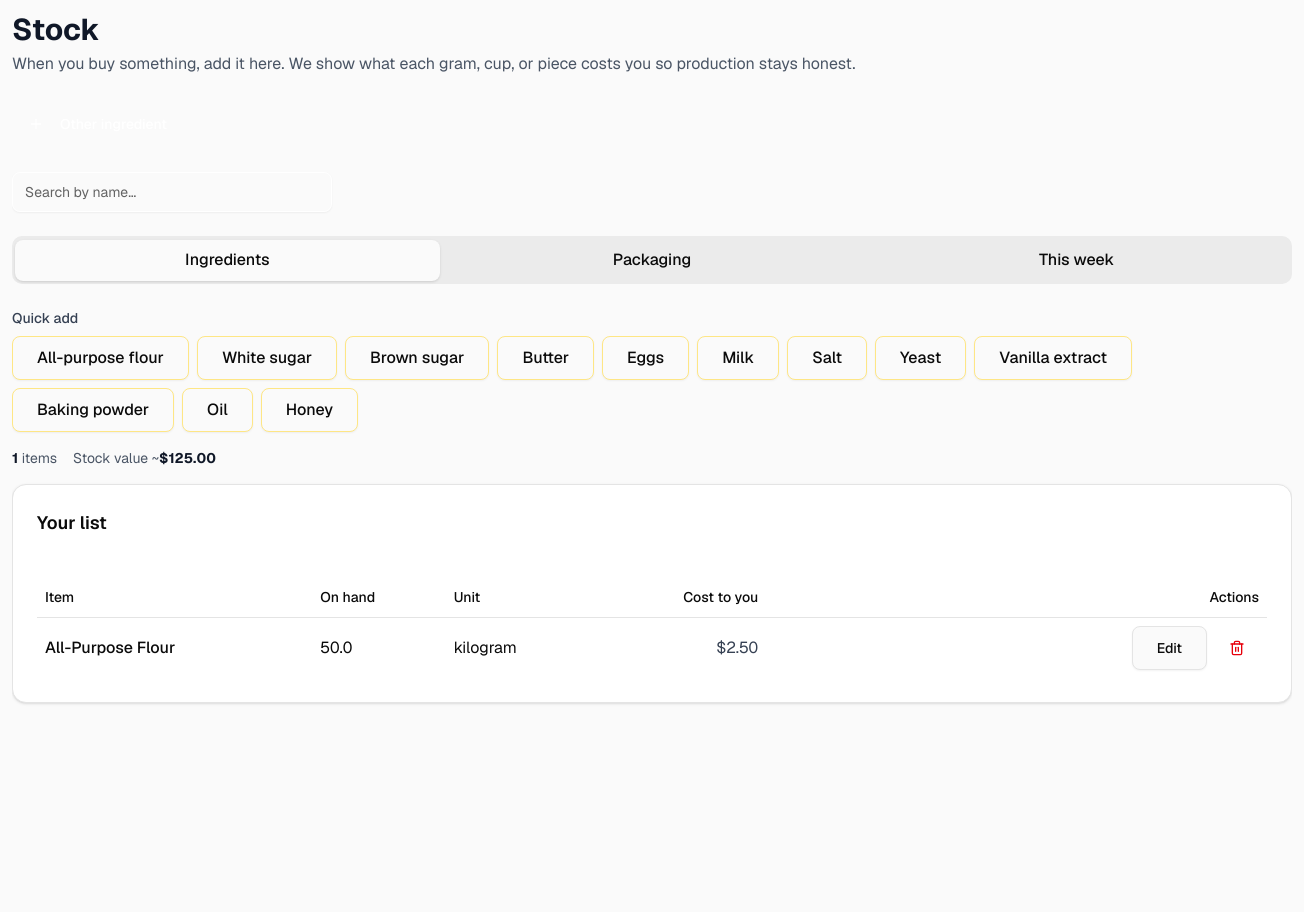
Test case: StockPage › switches to packaging tab and shows packaging items
expect the text "All-Purpose Flour" is shown: met, box [37, 617, 312, 678]
Click the tab "Packaging" at (652, 260), box [440, 240, 864, 280]
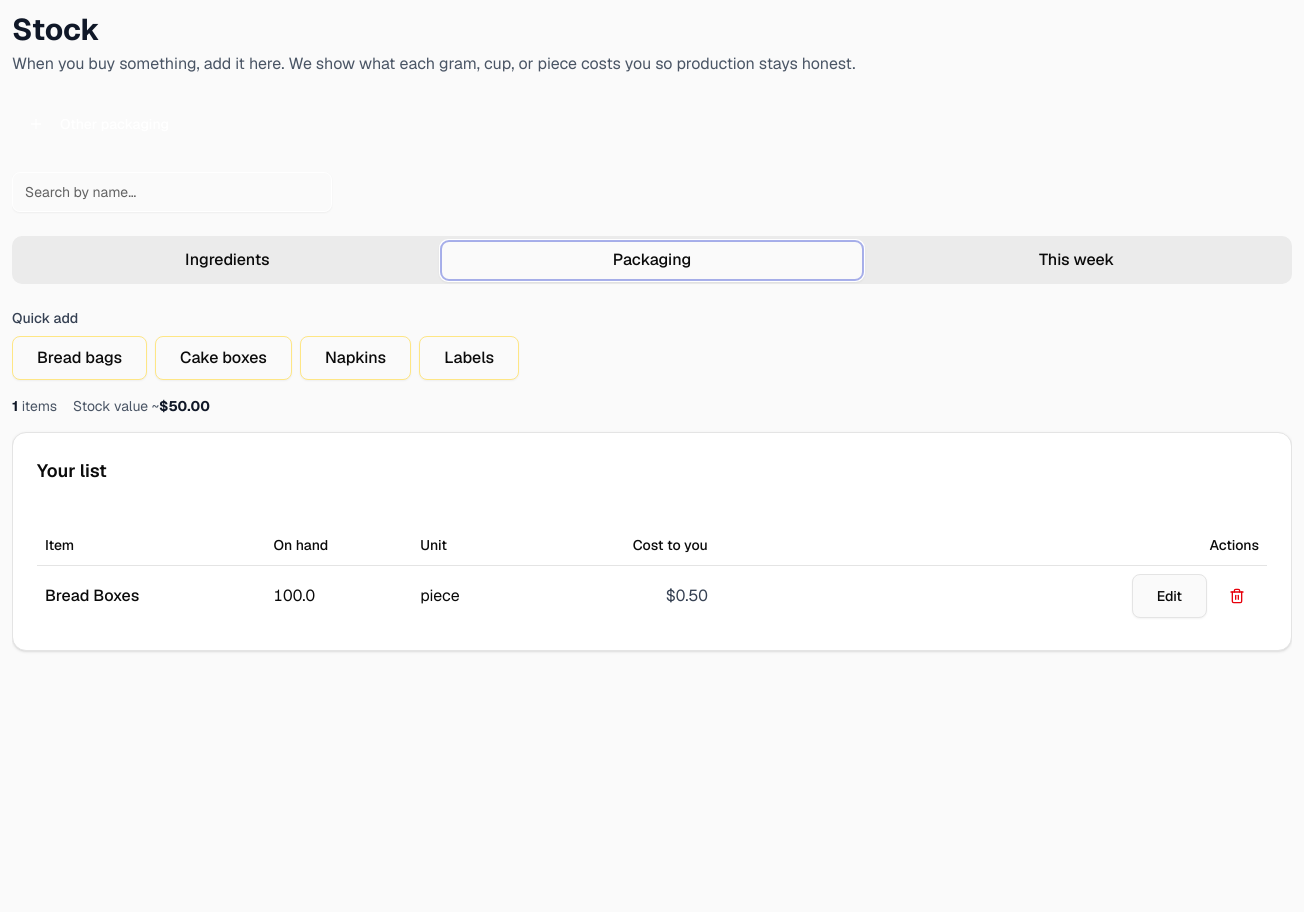
expect the text "Bread Boxes" is shown: met, box [37, 565, 266, 626]
